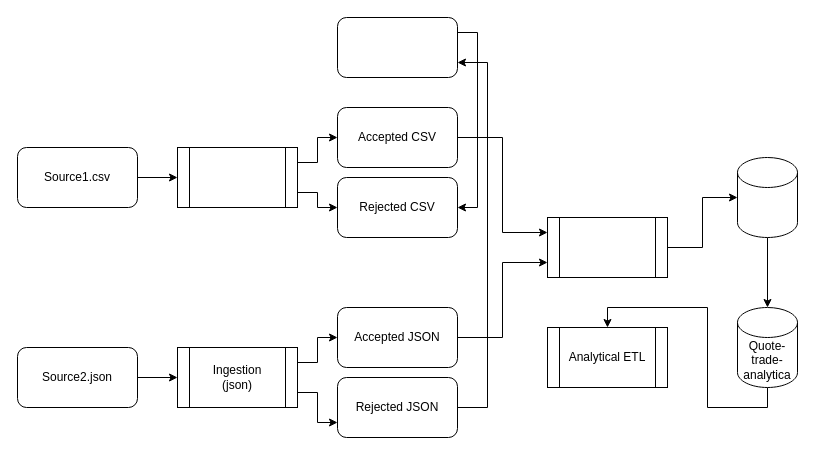
The diagram is 815 pixels wide and 455 high, and some of its shapes have lost their labels. Here are the shapes that lost their labels. From the top down, the centre of each, then its label:
At (x=397, y=47): "Rejected Files".
At (x=237, y=177): "Ingestion (csv)".
At (x=767, y=197): "EOD Trade Quote".
At (x=607, y=247): "EOD Load (Accept)".
